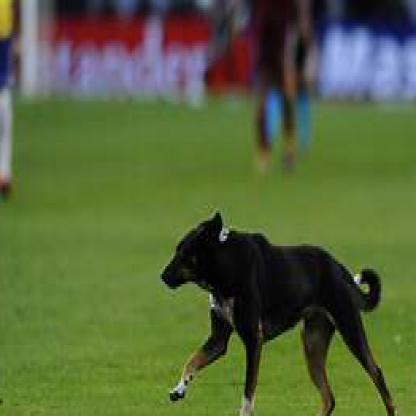dog: (160, 210, 400, 414)
